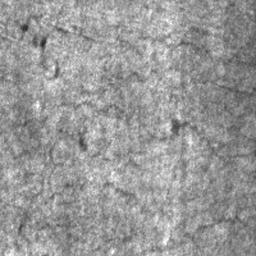Crazing: (4, 83, 256, 249), (0, 14, 256, 83), (152, 215, 250, 251), (219, 85, 256, 101), (78, 126, 88, 152), (140, 204, 151, 215)
